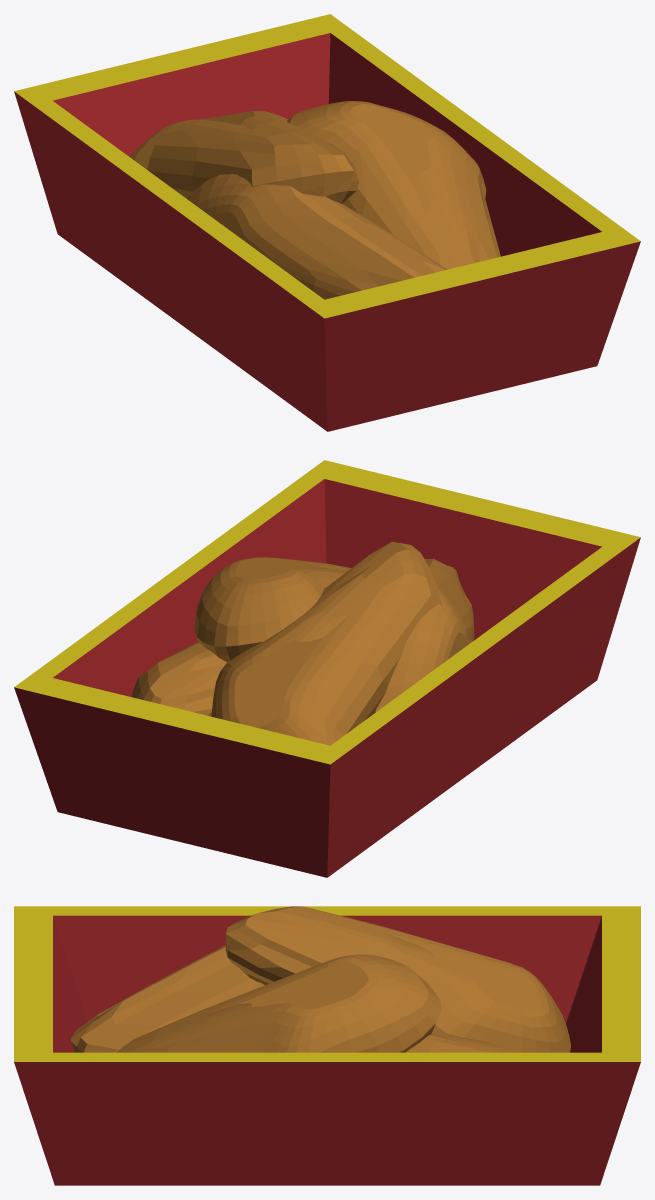
Rendered from chickenTenders.fbx.
The picture shows the model from 3 angles, top to bottom: view 1: azimuth 30°, elevation 25°; view 2: azimuth 150°, elevation 25°; view 3: azimuth 270°, elevation 25°; orthographic projection.
Visible parts, largest first — view 1: Chicken Tenders; view 2: Chicken Tenders; view 3: Chicken Tenders.
Part boxes in pixels (left/top/right/bottom): Chicken Tenders: left=14, top=14, right=640, bottom=431; Chicken Tenders: left=14, top=460, right=640, bottom=877; Chicken Tenders: left=14, top=906, right=640, bottom=1185.
Size of the model in its own units: 1.35 by 0.7559 by 2.3.
